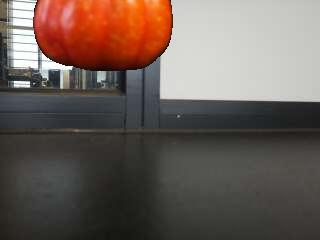Pumpkin: (32, 0, 174, 72)
